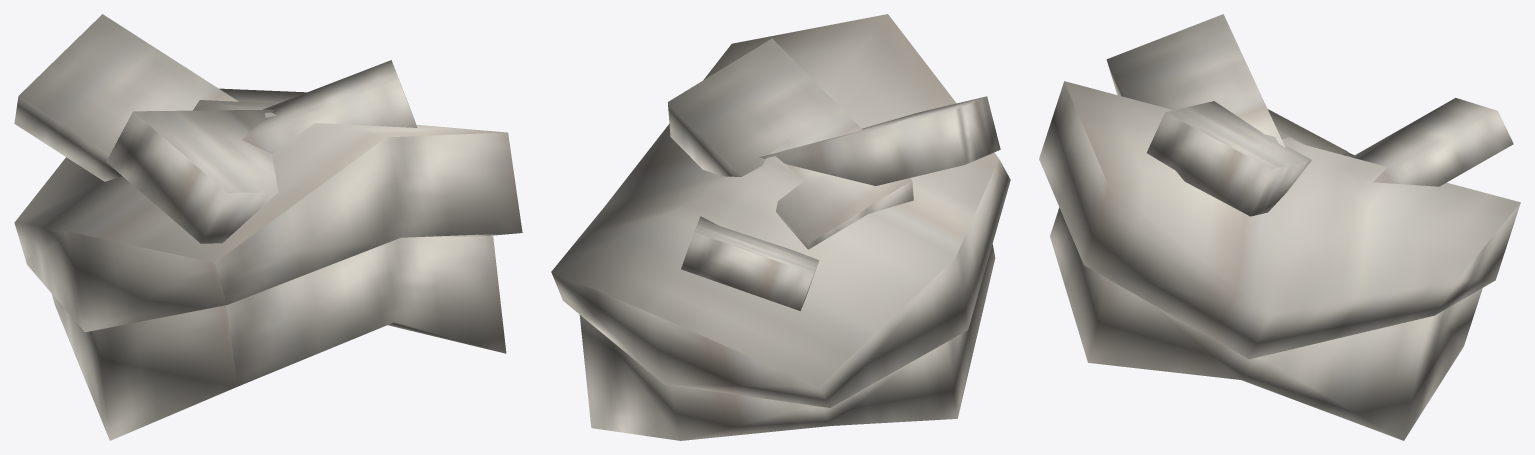
The model's file is helmet_olmec_3.dae.
3 views of the same model, side by side, from view 1: azimuth 30°, elevation 25°; view 2: azimuth 150°, elevation 25°; view 3: azimuth 270°, elevation 25° (orthographic). The views are drawn at different scales.
Visible parts, largest first — view 1: olmec_3; view 2: olmec_3; view 3: olmec_3.
Part boxes in pixels (x1,y1,x2,y2): olmec_3: [14, 14, 522, 440]; olmec_3: [551, 14, 1010, 440]; olmec_3: [1039, 14, 1520, 440].
Size of the model in its own units: 0.5246 by 0.6458 by 0.4483.
